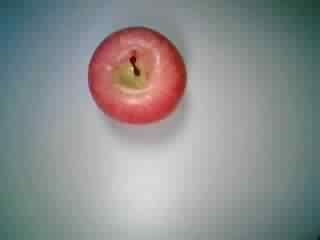apple: (84, 22, 189, 124)
